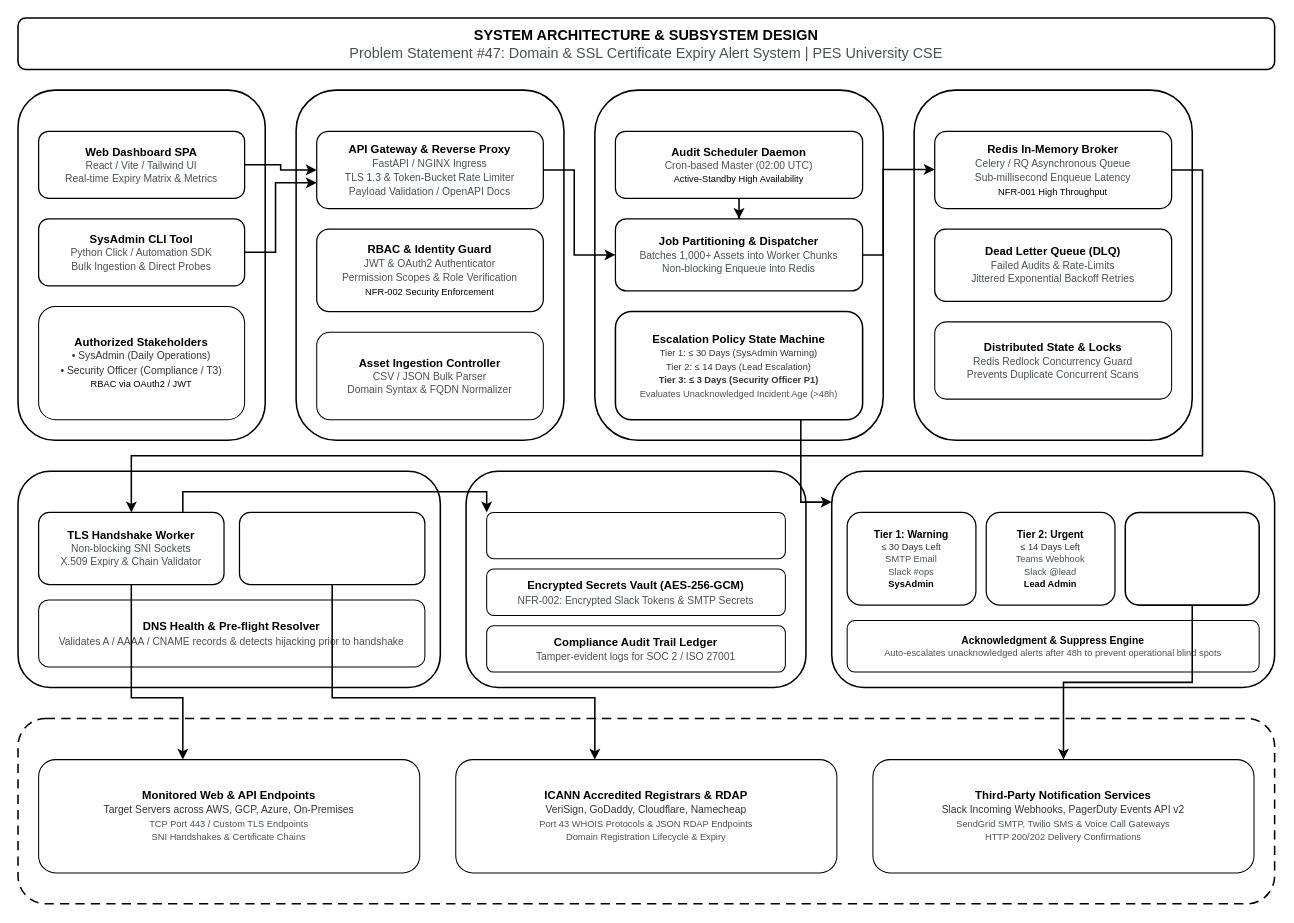
The diagram is 1294 pixels wide and 923 high, and some of its shapes have lost their labels. Each missing label, with the box of its shape:
1. Presentation & Client Tier: (17, 89, 266, 441)
2. API Gateway & Auth Tier: (295, 89, 564, 441)
3. Core Orchestration Engine: (594, 89, 884, 441)
4. Task Broker & Queue Tier: (913, 89, 1193, 441)
5. Asynchronous Worker Engine (Pool): (17, 470, 441, 688)
6. Persistence, State & Secrets Tier: (465, 470, 806, 688)
7. Escalation Notification Subsystem: (830, 470, 1275, 688)
8. External Public Infrastructure & Third-Party Services: (17, 717, 1275, 904)
PostgreSQL Relational DB Domain Inventory, Audit Logs & Incident Records: (486, 511, 785, 559)
Tier 3: Critical ≤ 3 Days Left PagerDuty P1 SMS / Call Security Officer: (1124, 511, 1259, 605)
WHOIS / RDAP Worker ICANN Registry Queries Domain Registrar Expiry: (238, 511, 425, 585)
